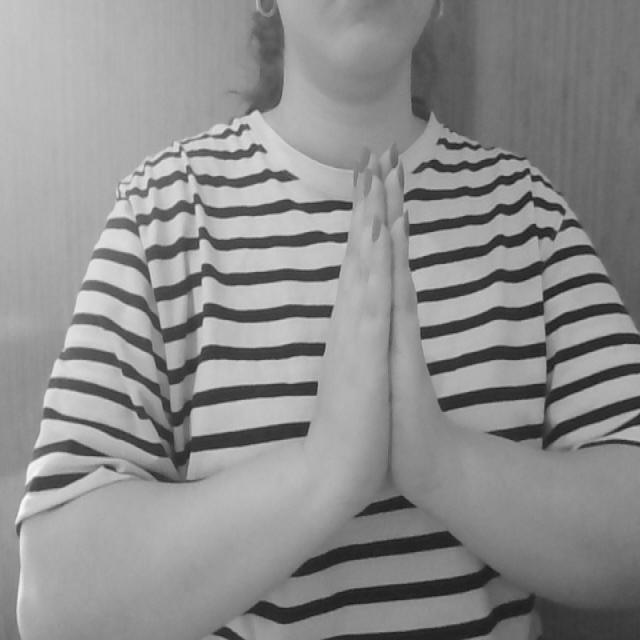Ozur-Dilemek: (297, 127, 455, 550)
